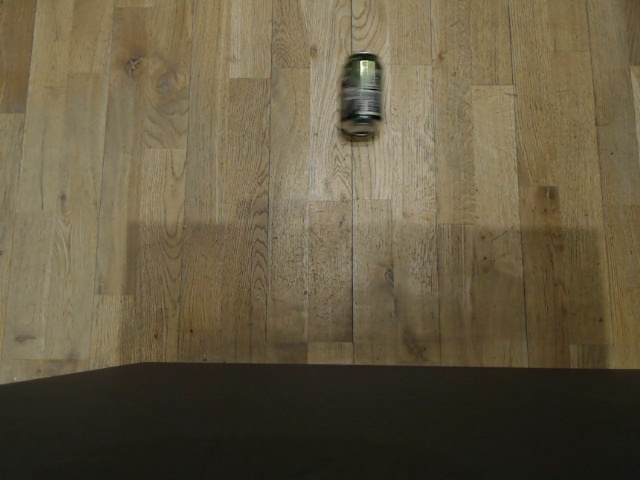beer: (333, 49, 387, 142)
